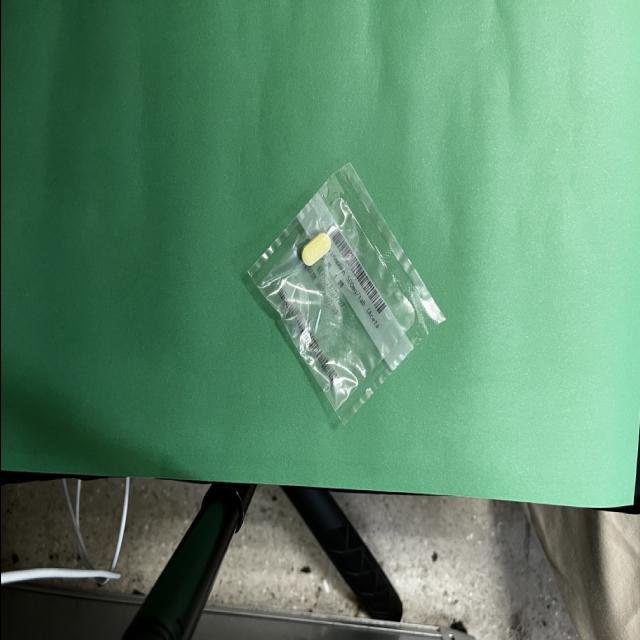Other Objects: (235, 138, 455, 442)
